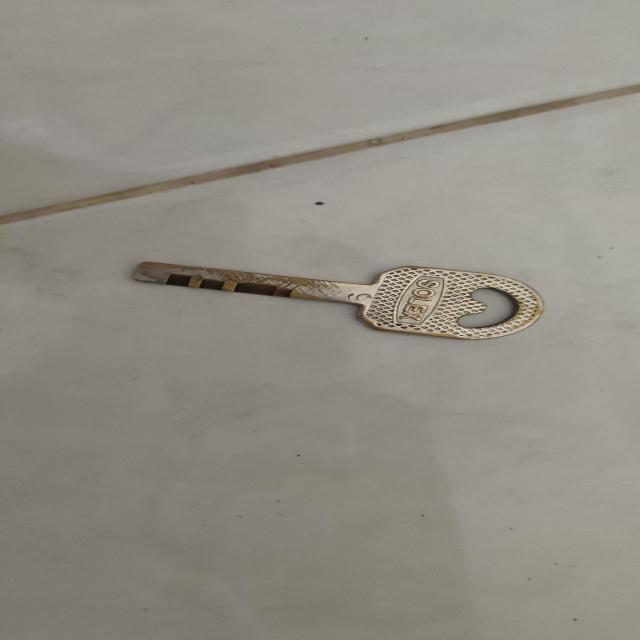kunci_pagar: (123, 240, 550, 342)
